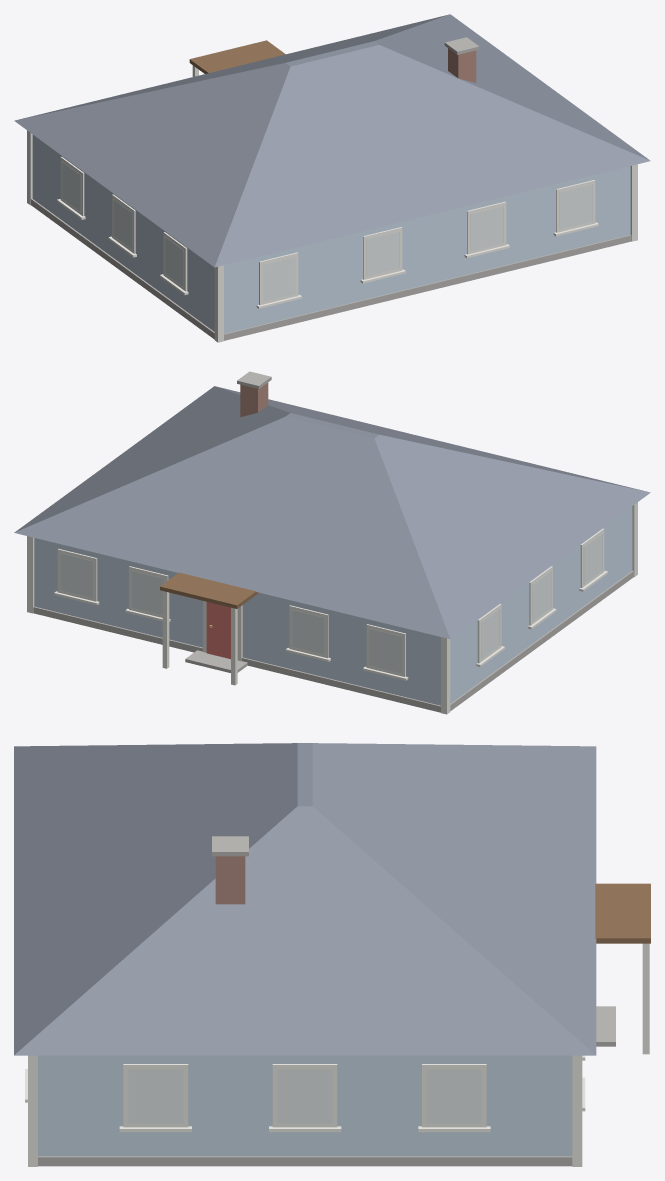
The model's file is house_medium_b.glb.
The picture shows the model from 3 angles, top to bottom: view 1: azimuth 30°, elevation 25°; view 2: azimuth 150°, elevation 25°; view 3: azimuth 270°, elevation 25°; orthographic projection. The views are drawn at different scales.
Parts seen in each view (by area): view 1: roof, body; view 2: roof, body; view 3: roof, body.
Boxes of the visible parts, x1,y1,x2,y2 form: roof: (14, 14, 650, 267); body: (27, 40, 637, 342); roof: (14, 371, 650, 639); body: (27, 502, 637, 714); roof: (14, 743, 596, 1055); body: (25, 883, 650, 1166).
Size of the model in its own units: 14.7 by 5.49 by 12.8.
